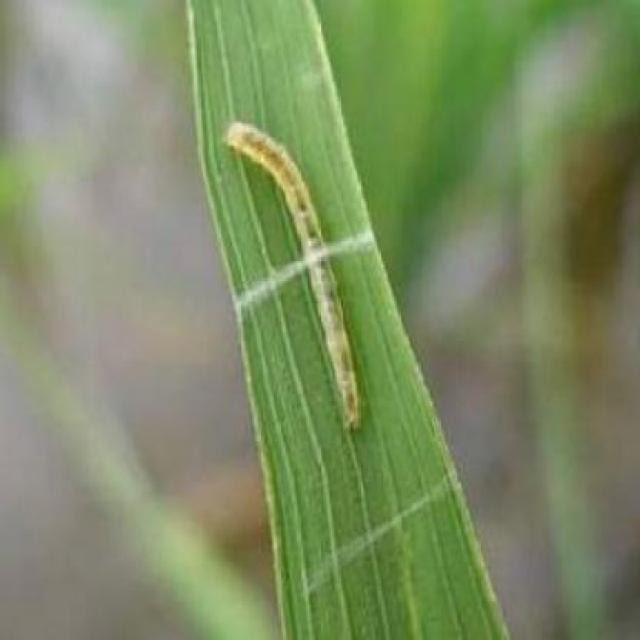leaf-folder: (205, 84, 377, 458)
